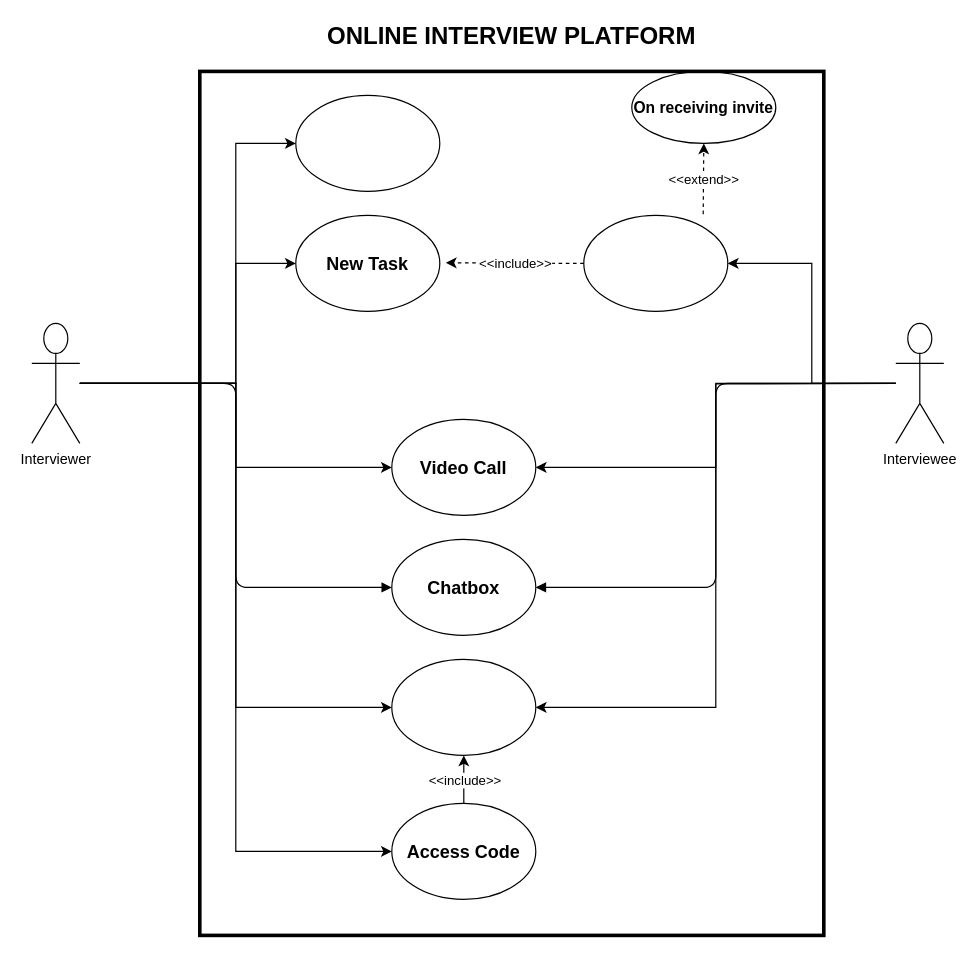
Some shapes in this 977 by 958 pixel diagram are drawn without their labels. The shapes that lost their labels are listed below. From the top down, each one's centre as x and y in pixels, then its label:
(367,142): Register / Login / Single sign-on
(655,262): Join Task
(463,706): Collaborative Editor
